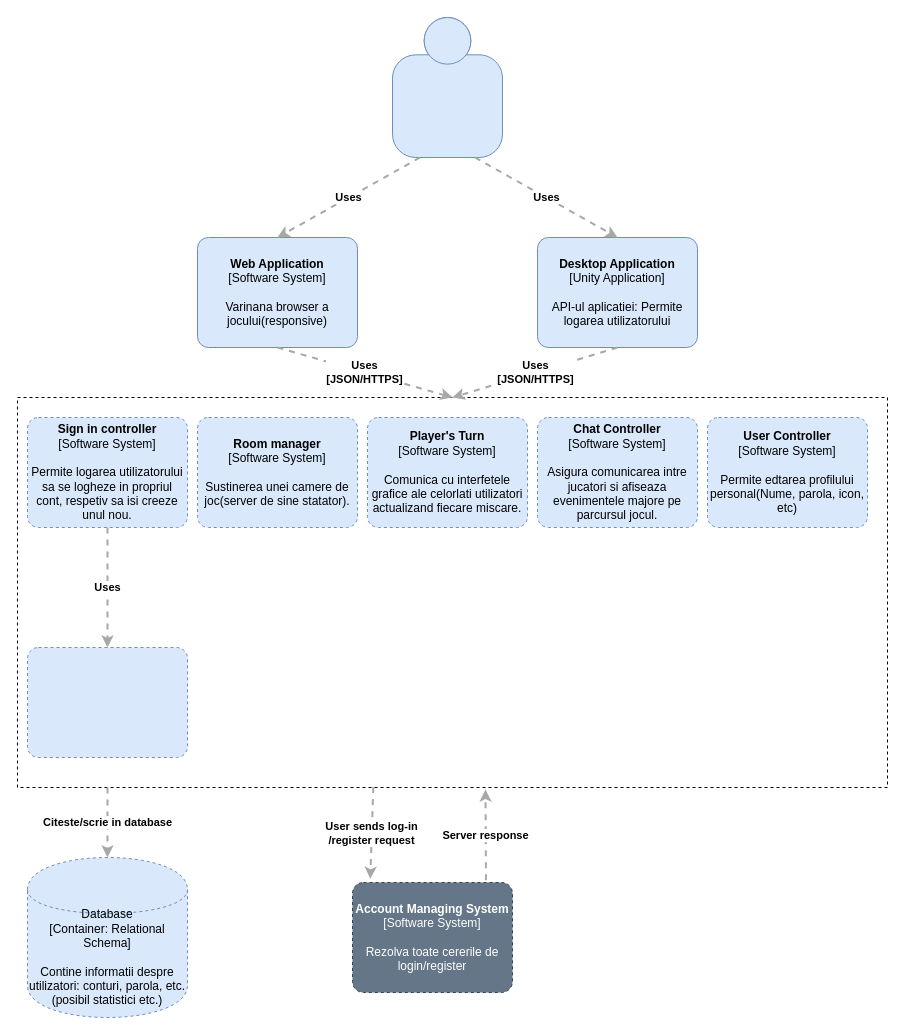
The diagram is 905 pixels wide and 1035 high, and some of its shapes have lost their labels. Here are the shapes that lost their labels. From the top down, the centre of each, then its label:
the point at 447,87: Utilizator [Persoana] O persoana care doreste sa se joace D&D online.
the point at 107,702: Security component [Software System] Asigura securitatea logarii.
